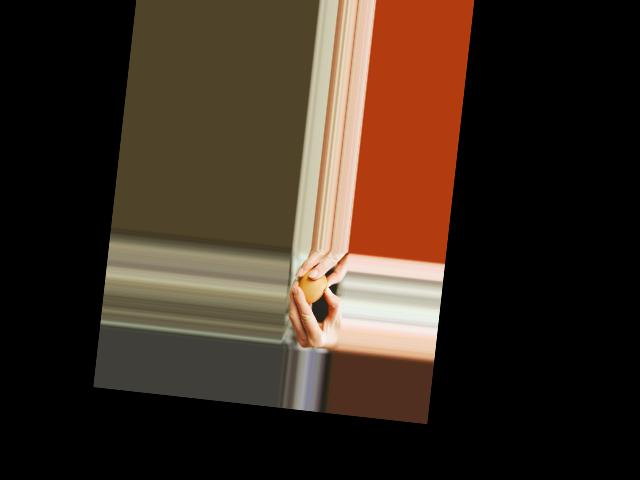egg: (296, 267, 328, 304)
